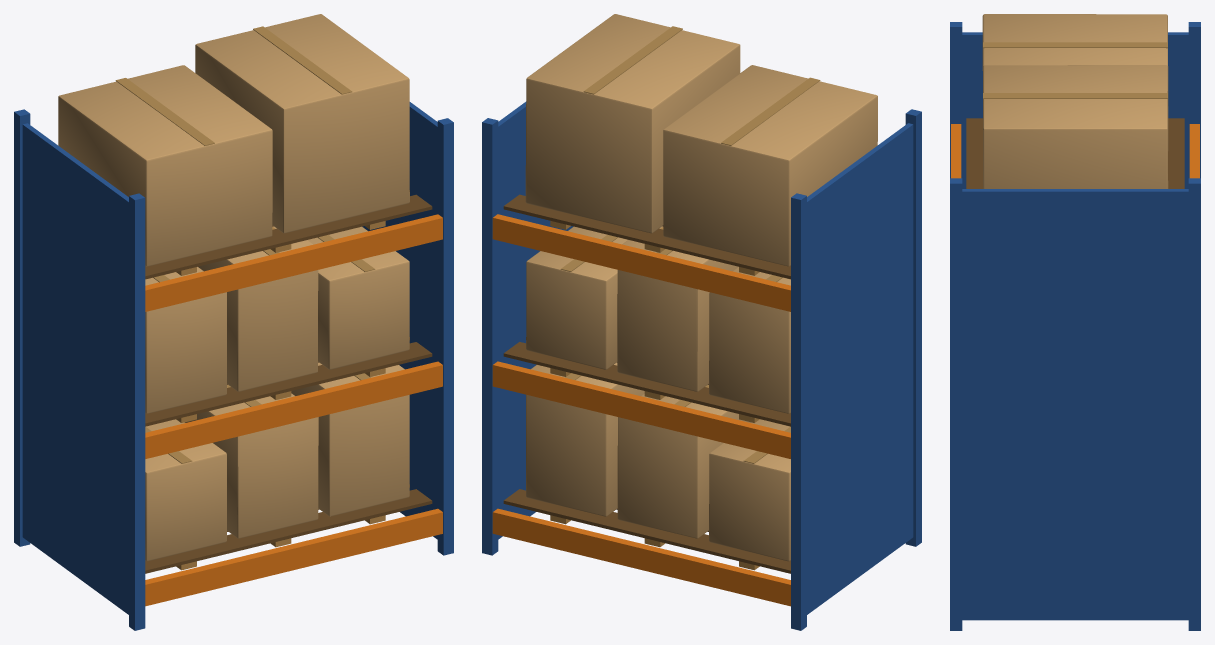
File: sh_palletrack.glb
The picture shows the model from 3 angles, left to right: view 1: azimuth 30°, elevation 25°; view 2: azimuth 150°, elevation 25°; view 3: azimuth 270°, elevation 25°; orthographic projection. The views are drawn at different scales.
Visible parts, largest first — view 1: carton, brace, beam, deck, tape, run; view 2: carton, brace, beam, deck, tape, run; view 3: brace, carton, deck, tape, beam.
Part boxes in pixels (x1,y1,x2,y2): carton: (58, 14, 409, 561); brace: (14, 102, 453, 630); beam: (145, 214, 442, 606); deck: (145, 190, 432, 573); tape: (115, 26, 375, 463); run: (176, 221, 385, 570); carton: (525, 14, 877, 561); brace: (482, 101, 921, 630); beam: (492, 214, 790, 606); deck: (503, 194, 790, 573); tape: (560, 26, 820, 463); run: (550, 221, 759, 570); brace: (950, 22, 1200, 630); carton: (982, 14, 1168, 188); deck: (966, 118, 1184, 188); tape: (983, 42, 1167, 98); beam: (951, 124, 1199, 178).
Bounding box in the file's own units: 1.86 × 2.62 × 1.22.
